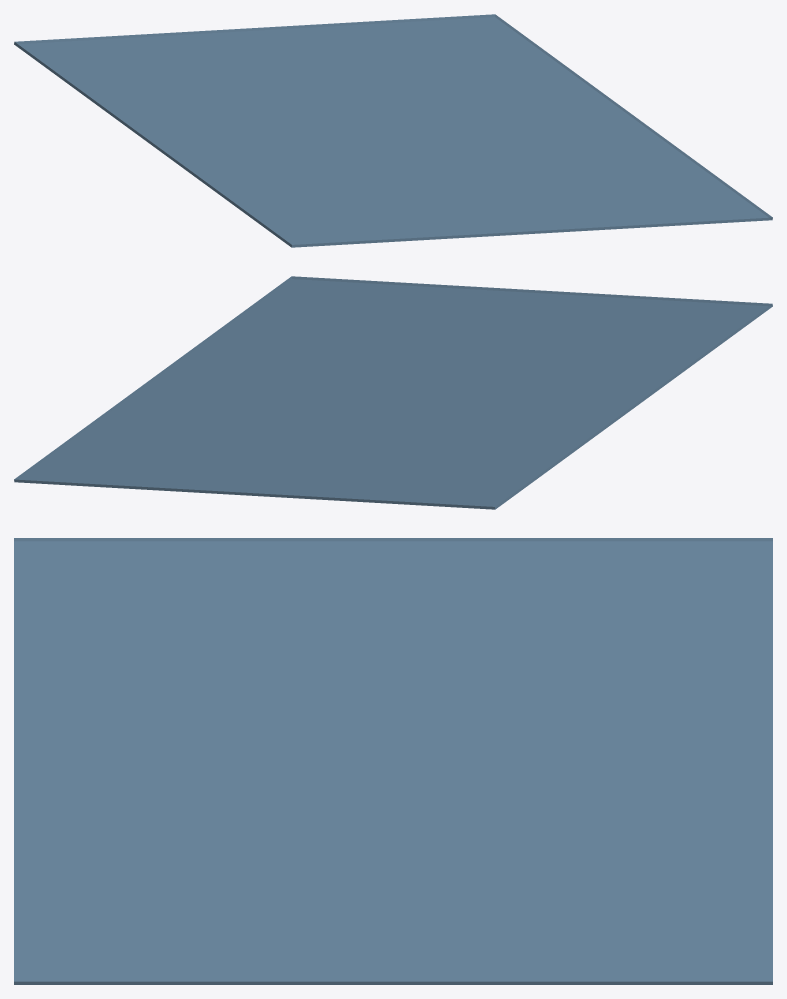
The model's file is Arch_Vault_Glazing_2.glb.
The picture shows the model from 3 angles, top to bottom: view 1: azimuth 30°, elevation 25°; view 2: azimuth 150°, elevation 25°; view 3: azimuth 270°, elevation 25°; orthographic projection. The views are drawn at different scales.
Parts seen in each view (by area): view 1: Arch_Vault_Glazing_2; view 2: Arch_Vault_Glazing_2; view 3: Arch_Vault_Glazing_2.
Part boxes in pixels (x1,y1,x2,y2): Arch_Vault_Glazing_2: [14, 14, 772, 247]; Arch_Vault_Glazing_2: [14, 276, 772, 509]; Arch_Vault_Glazing_2: [14, 538, 772, 984].
Size of the model in its own units: 3 by 0.5516 by 3.
